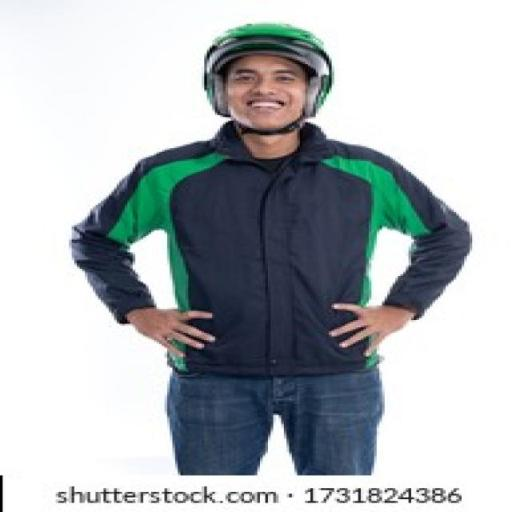Helmet: (207, 24, 331, 142)
